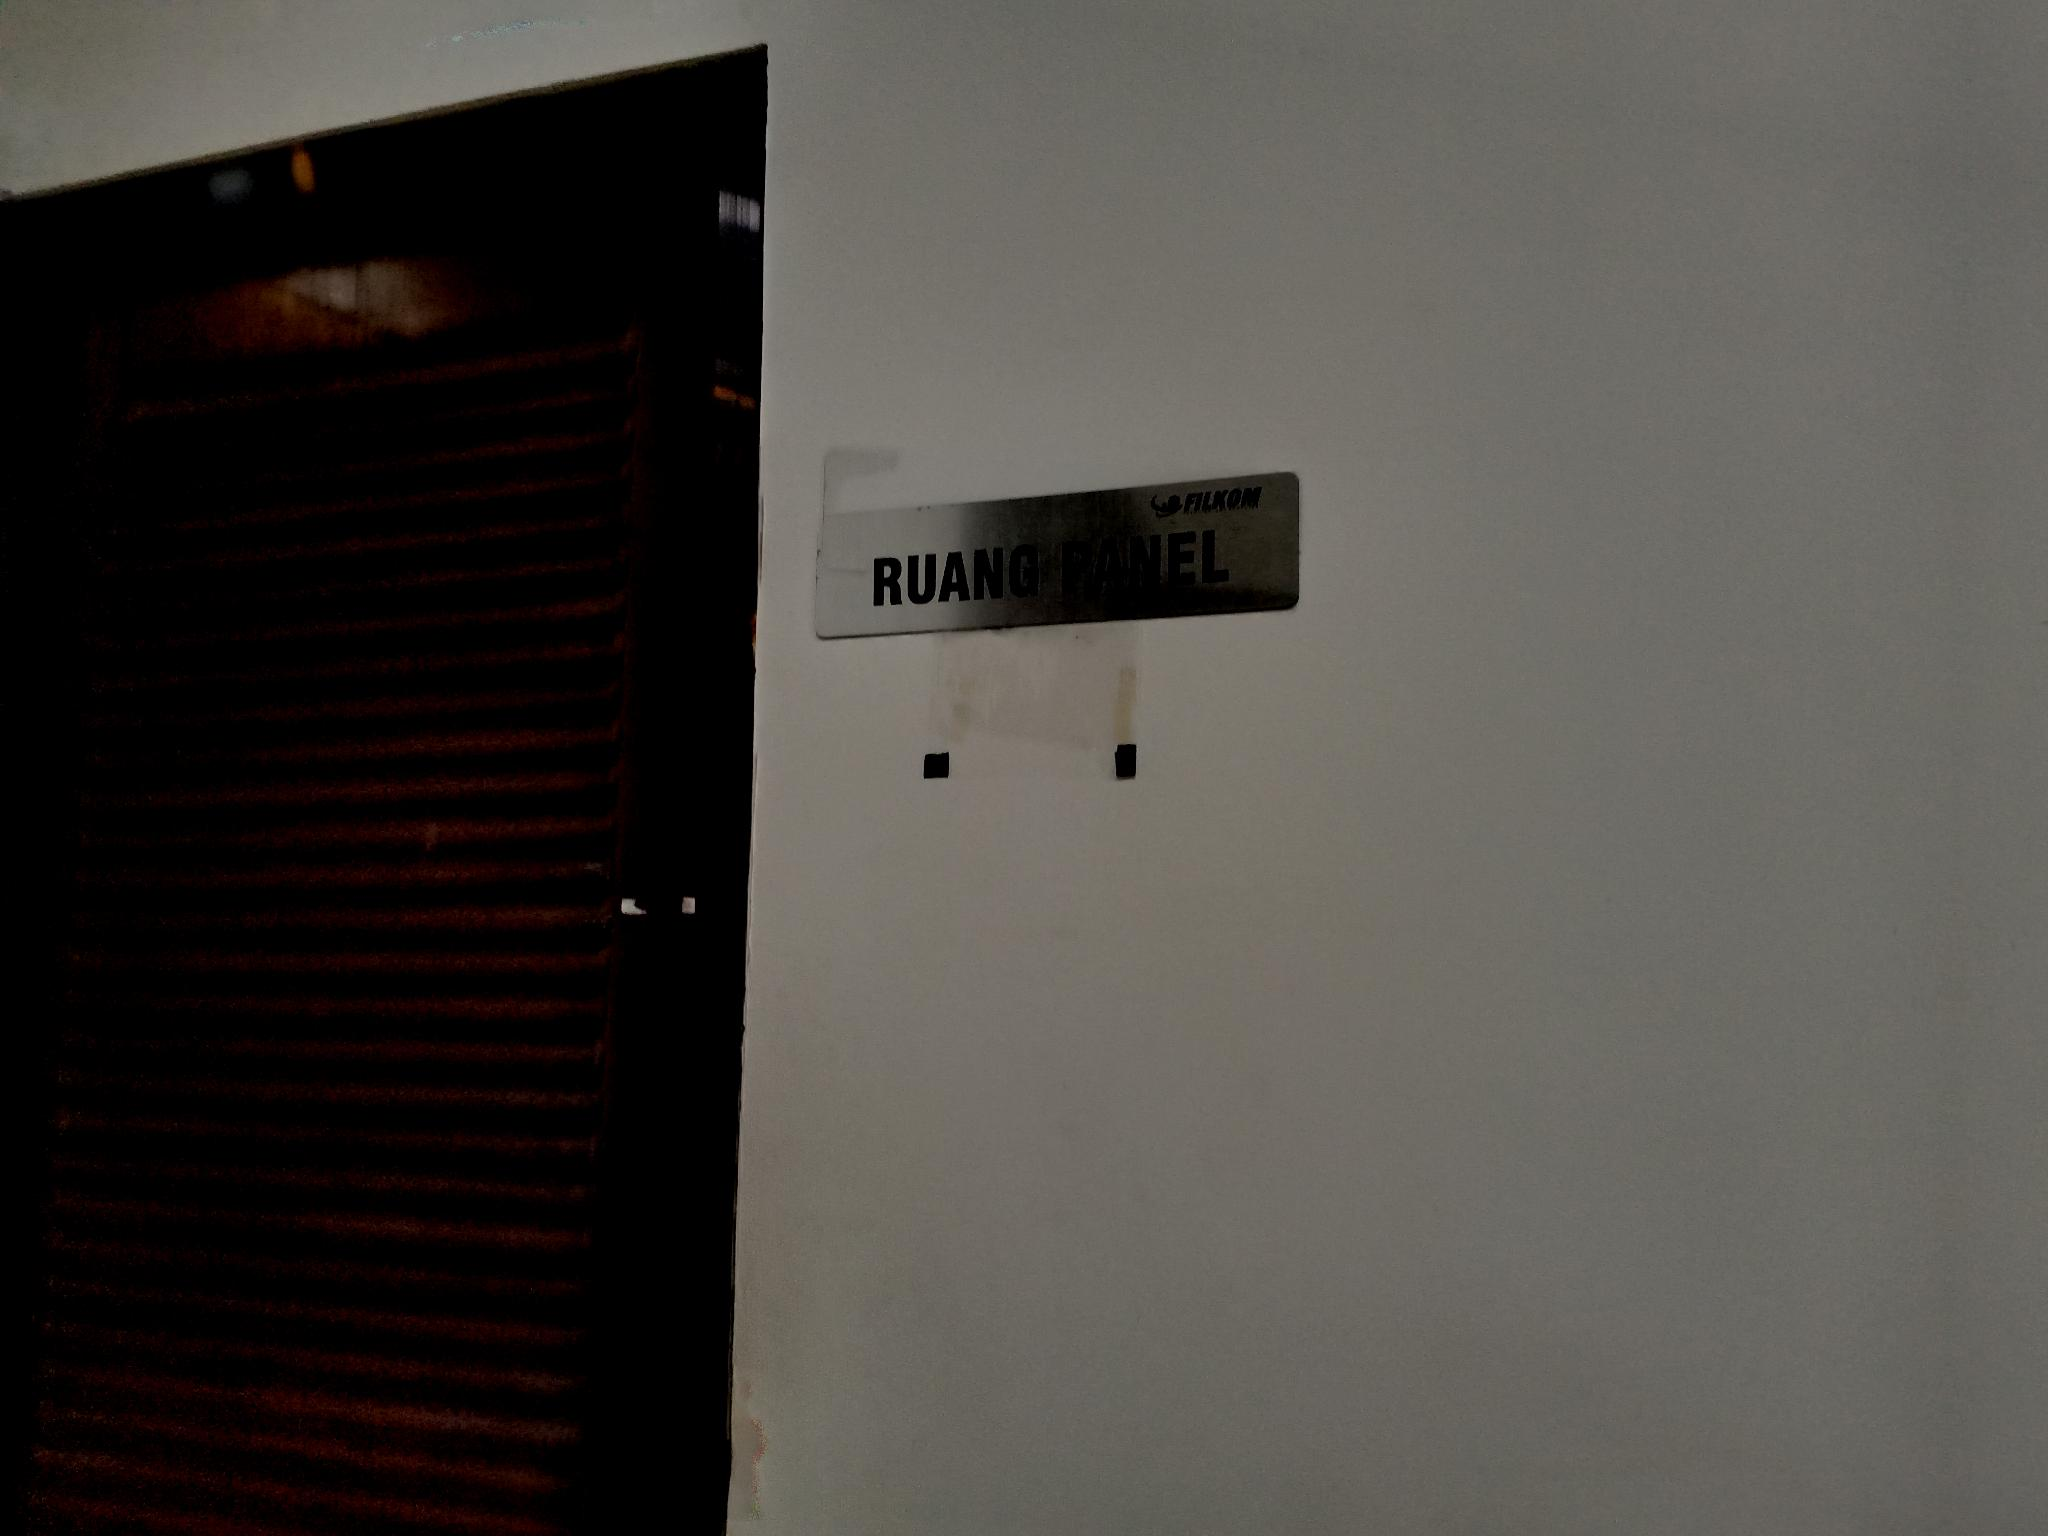plate: (816, 471, 1300, 639)
